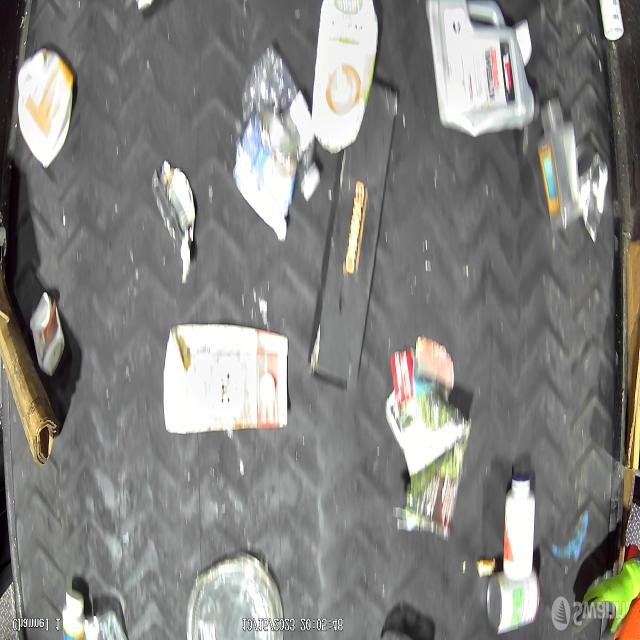can: (234, 109, 297, 242), (486, 565, 541, 634), (30, 291, 65, 376)
non_white_jug: (424, 0, 535, 139)
plastic_bottle: (240, 46, 321, 202)
